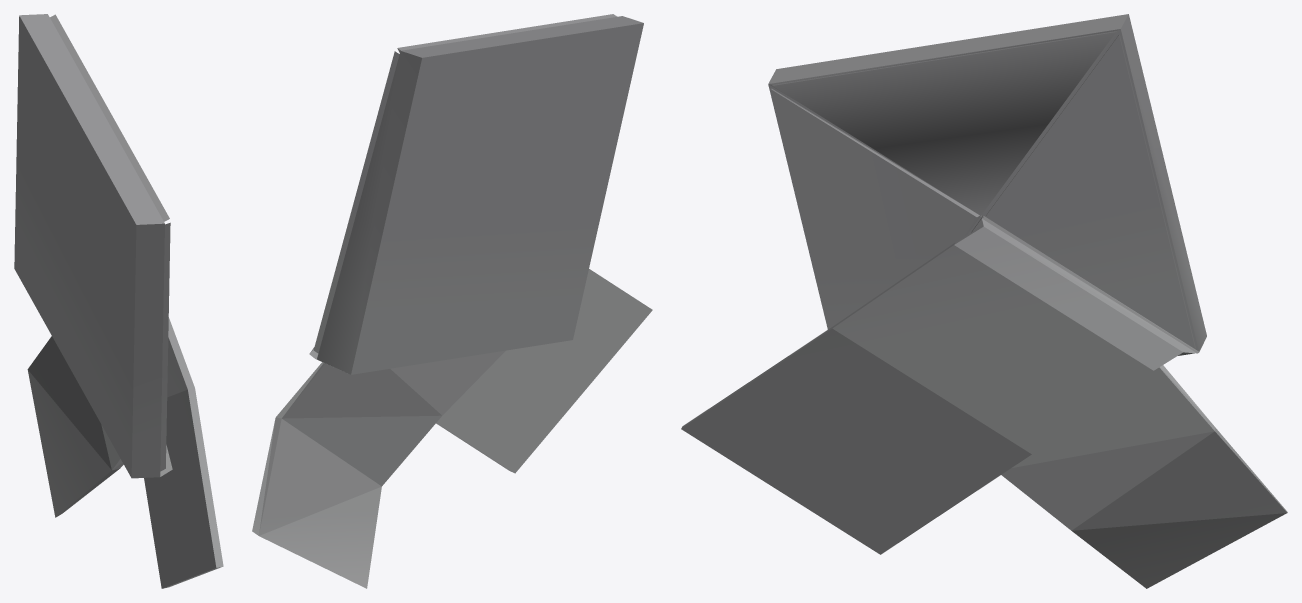
Rendered from folded_message.fbx.
The picture shows the model from 3 angles, left to right: view 1: azimuth 30°, elevation 25°; view 2: azimuth 150°, elevation 25°; view 3: azimuth 270°, elevation 25°; orthographic projection. The views are drawn at different scales.
Parts seen in each view (by area): view 1: message; view 2: message; view 3: message.
Part boxes in pixels (<box>): message: <box>14,14,223,588</box>; message: <box>252,14,652,588</box>; message: <box>681,14,1287,588</box>.
Bounding box in the file's own units: 0.8819 × 2.91 × 2.9.
Materials: 1 (1 with a texture image).
